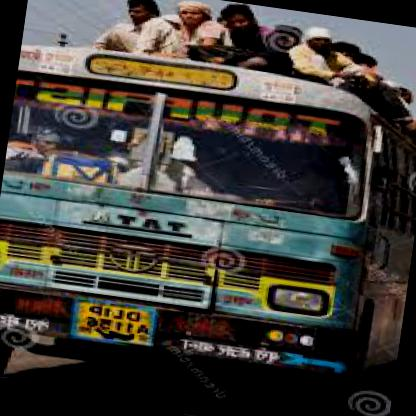bus: (0, 174, 415, 415)
